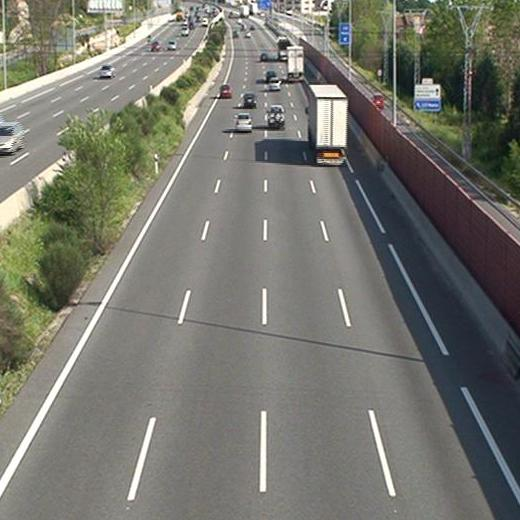car: (268, 106, 284, 128), (236, 113, 252, 132), (243, 94, 256, 107), (269, 78, 282, 90), (220, 85, 231, 98)
truck: (308, 85, 346, 165), (289, 46, 303, 82)
